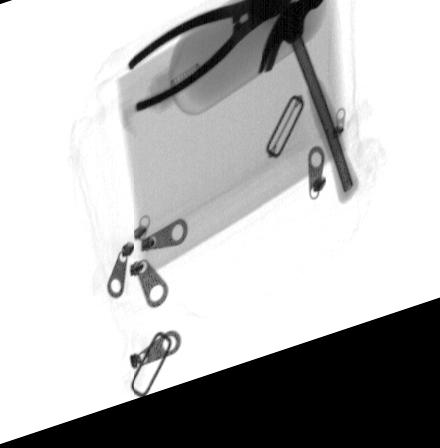Hammer: (255, 0, 359, 229)
Pliers: (126, 0, 296, 121)
